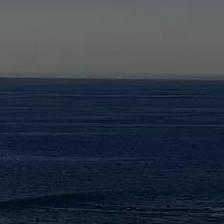surfer: (94, 204, 100, 209), (166, 203, 171, 208), (34, 217, 39, 222), (132, 206, 137, 210), (206, 207, 211, 211), (46, 208, 50, 212)
